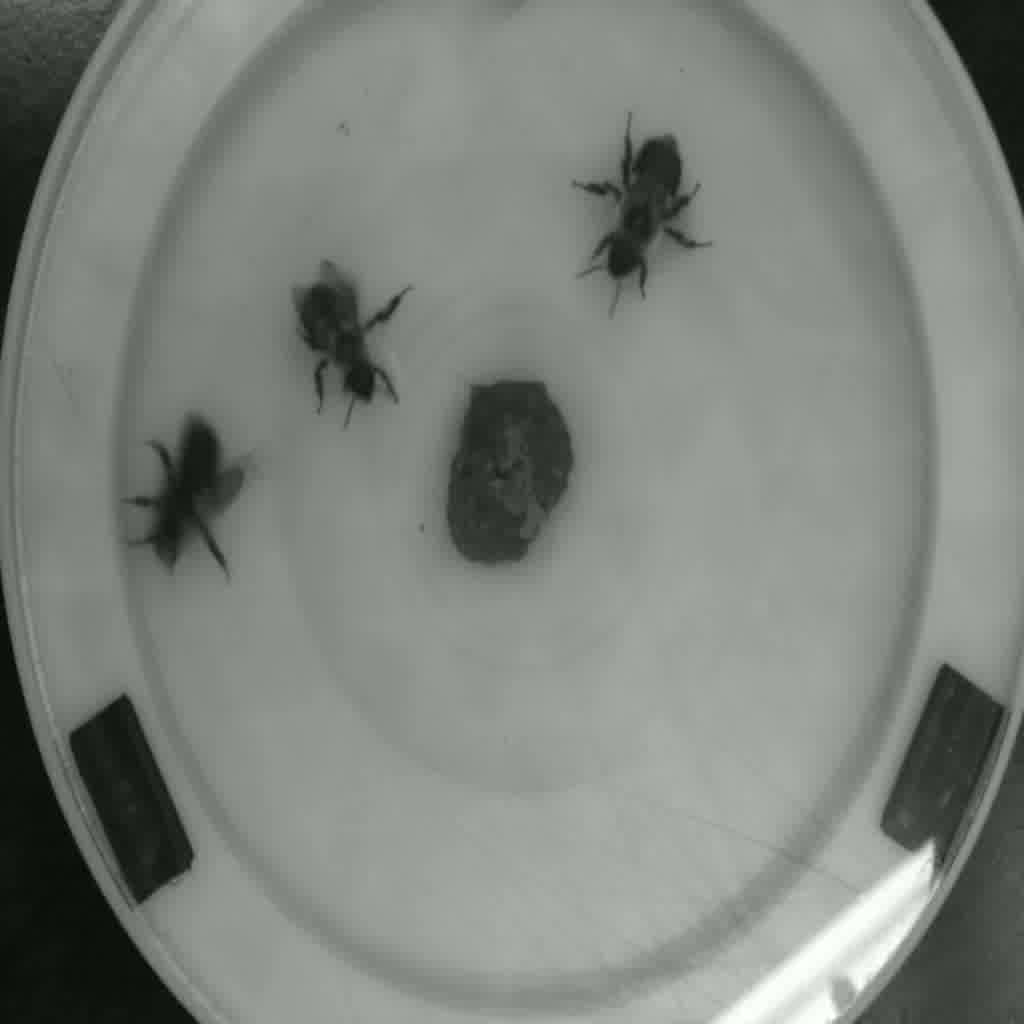bee: (124, 398, 256, 602), (587, 129, 697, 308), (275, 260, 402, 413)
